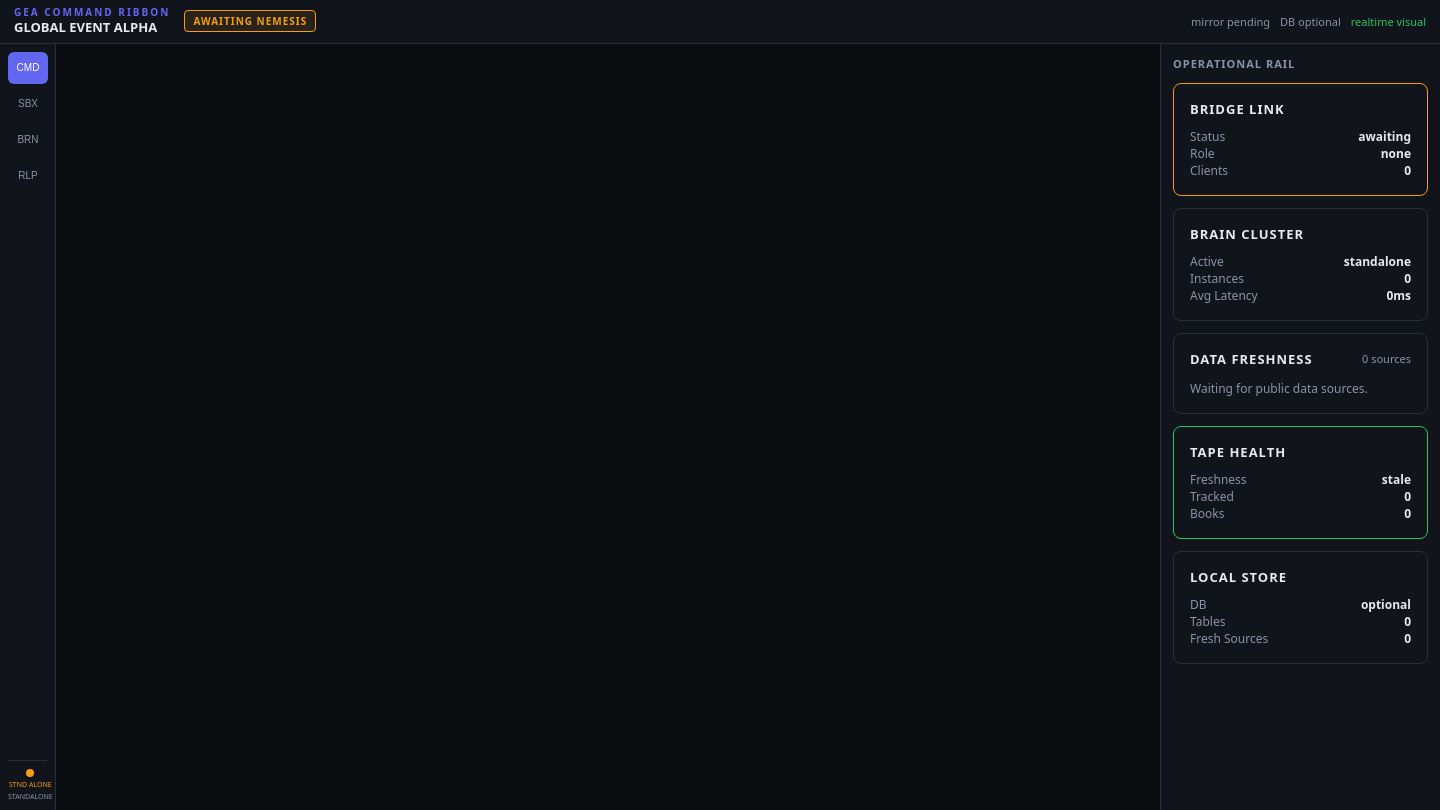
Scenario: Global Event Alpha shell › renders sandbox execution simulator output
This screenshot has width=1440, height=810.
Click the button titled "Sandbox": point(28, 104) x1=8 y1=88 x2=48 y2=120
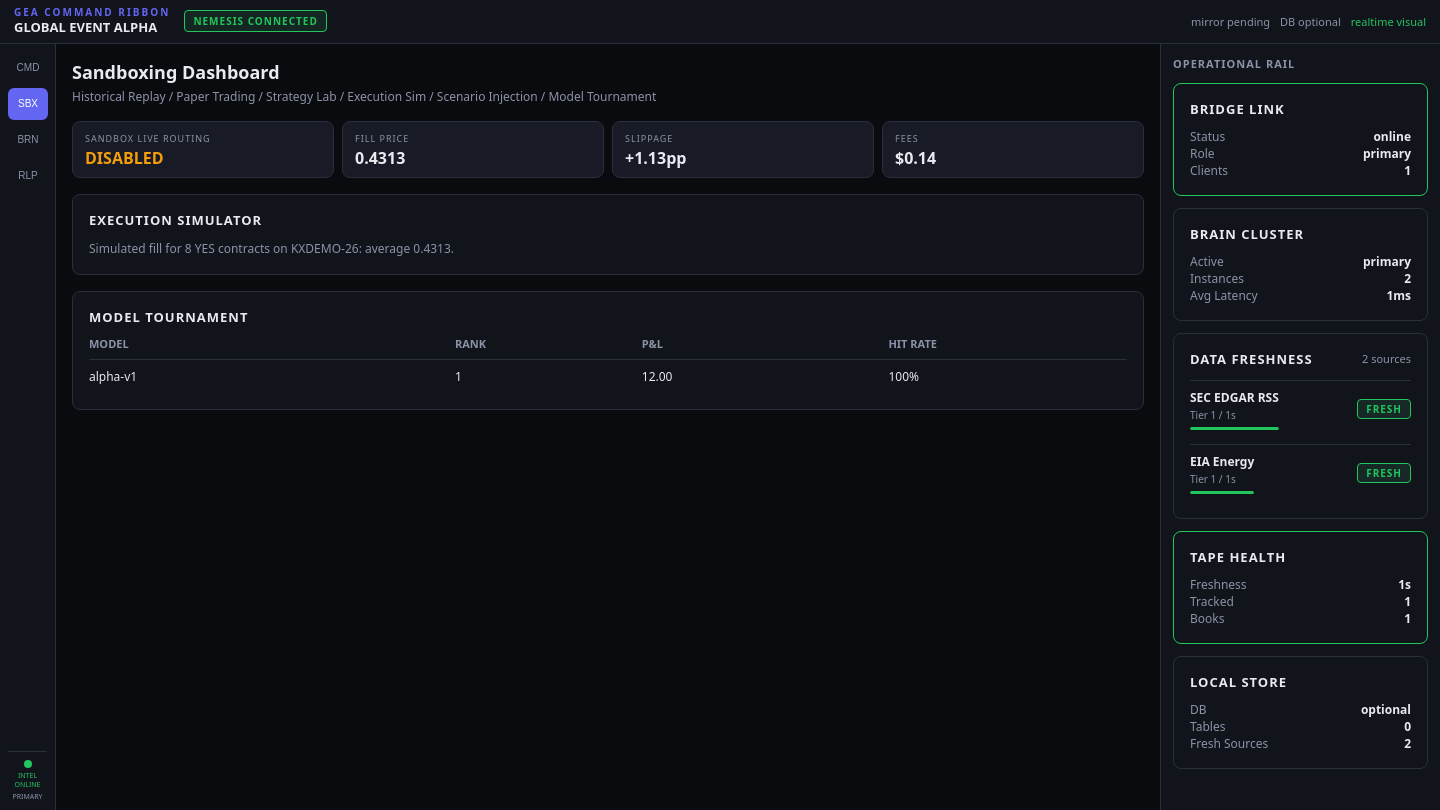
Result: the heading "Execution Simulator" is shown at x1=89 y1=211 x2=262 y2=229
Result: the text "Simulated fill" is shown at x1=89 y1=240 x2=185 y2=257
